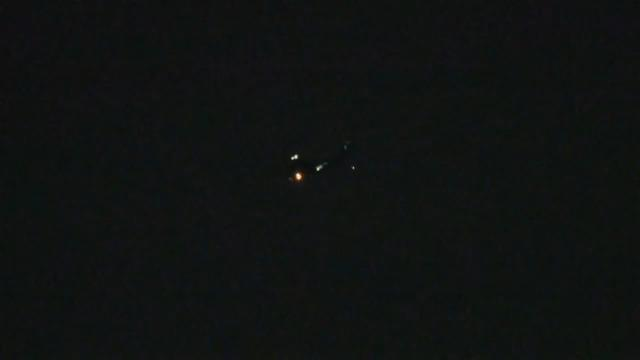Plane: (257, 144, 343, 193)
